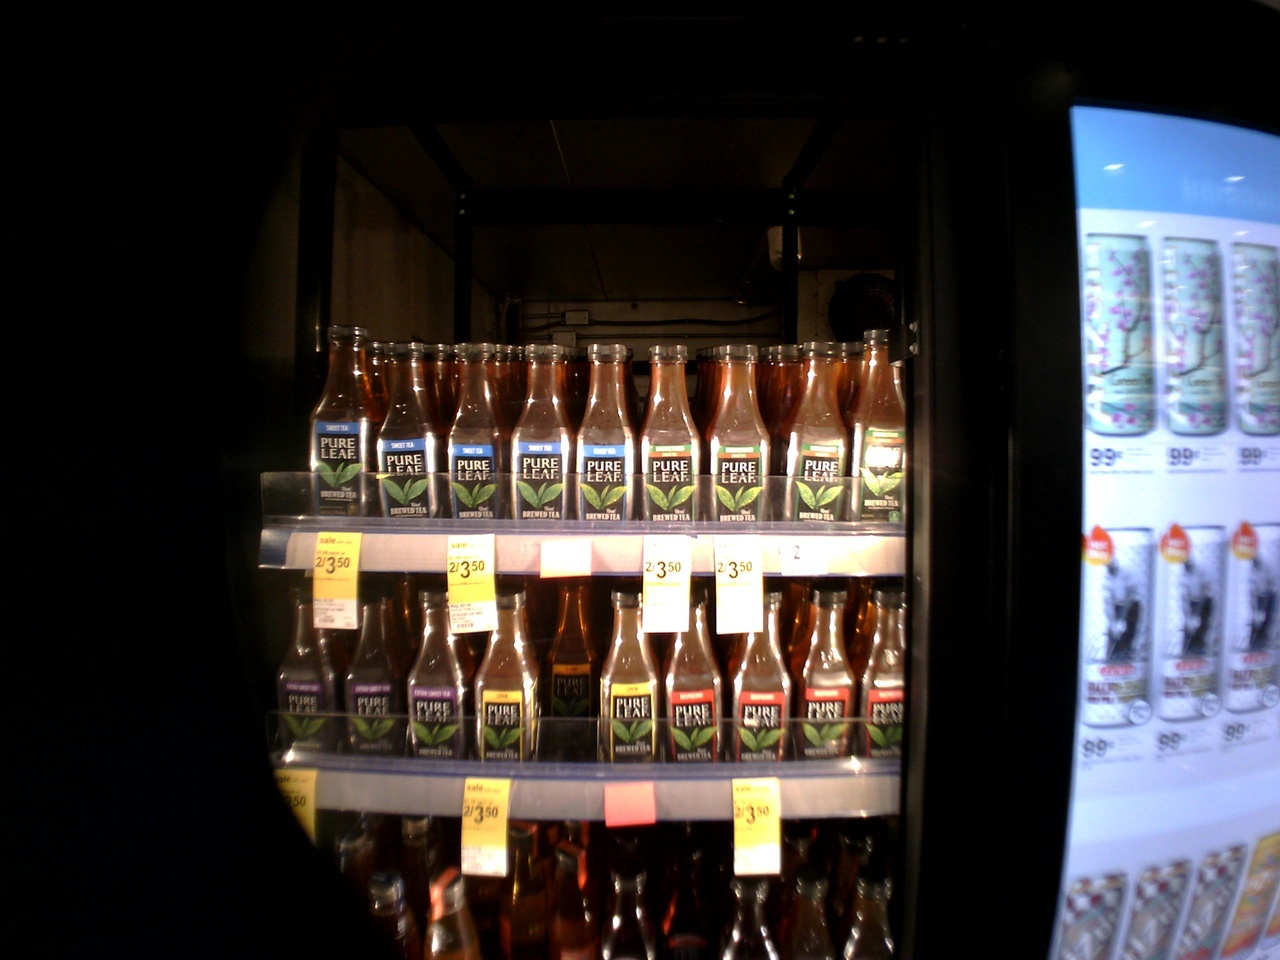shelf: (271, 549, 916, 825), (260, 316, 920, 567)
